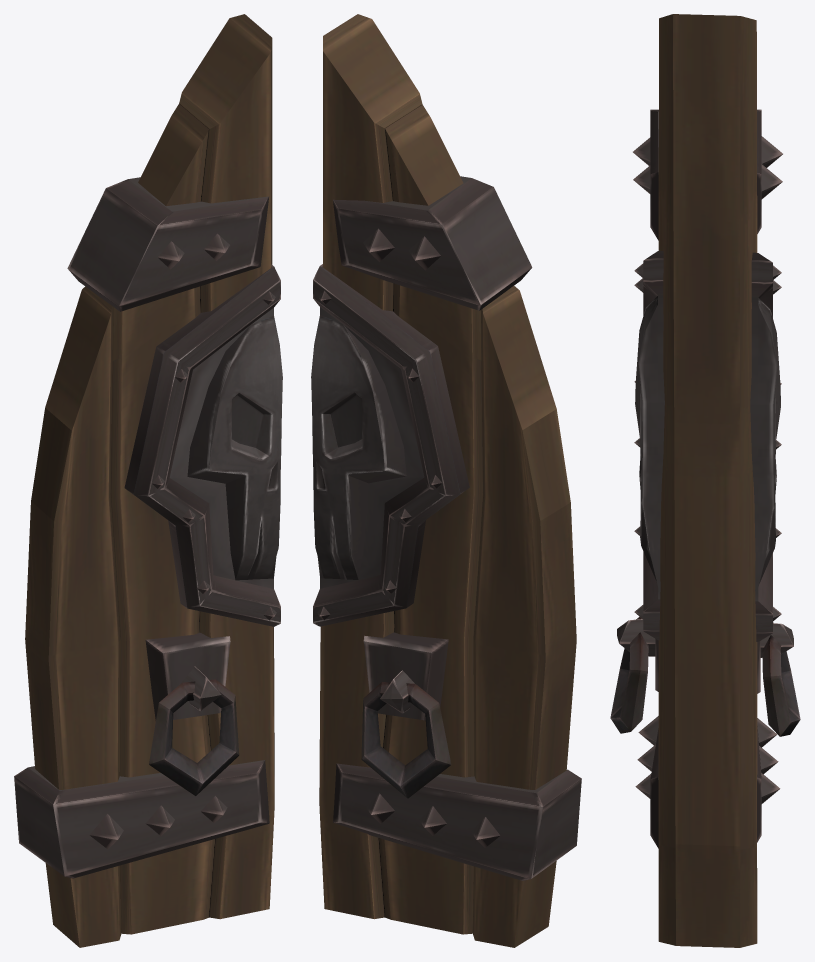
The model's file is A_CR_GEN_DoorRight_01.fbx.
The picture shows the model from 3 angles, left to right: view 1: azimuth 30°, elevation 25°; view 2: azimuth 150°, elevation 25°; view 3: azimuth 270°, elevation 25°; orthographic projection. The views are drawn at different scales.
Visible parts, largest first — view 1: A_CR_GEN_DoorRight_01; view 2: A_CR_GEN_DoorRight_01; view 3: A_CR_GEN_DoorRight_01.
Part boxes in pixels (left/top/right/bottom): A_CR_GEN_DoorRight_01: left=14, top=14, right=282, bottom=947; A_CR_GEN_DoorRight_01: left=311, top=14, right=581, bottom=947; A_CR_GEN_DoorRight_01: left=610, top=14, right=800, bottom=947.
Size of the model in its own units: 180 by 650 by 120.
Materials: 1 (1 with a texture image).
